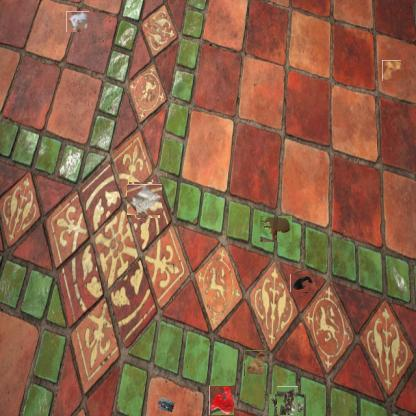dirty: (128, 183, 161, 217), (272, 390, 302, 416), (244, 350, 266, 376), (66, 11, 89, 32), (292, 273, 314, 294), (155, 396, 177, 416), (382, 60, 401, 81)
liquid: (260, 216, 292, 242), (209, 385, 234, 415)
